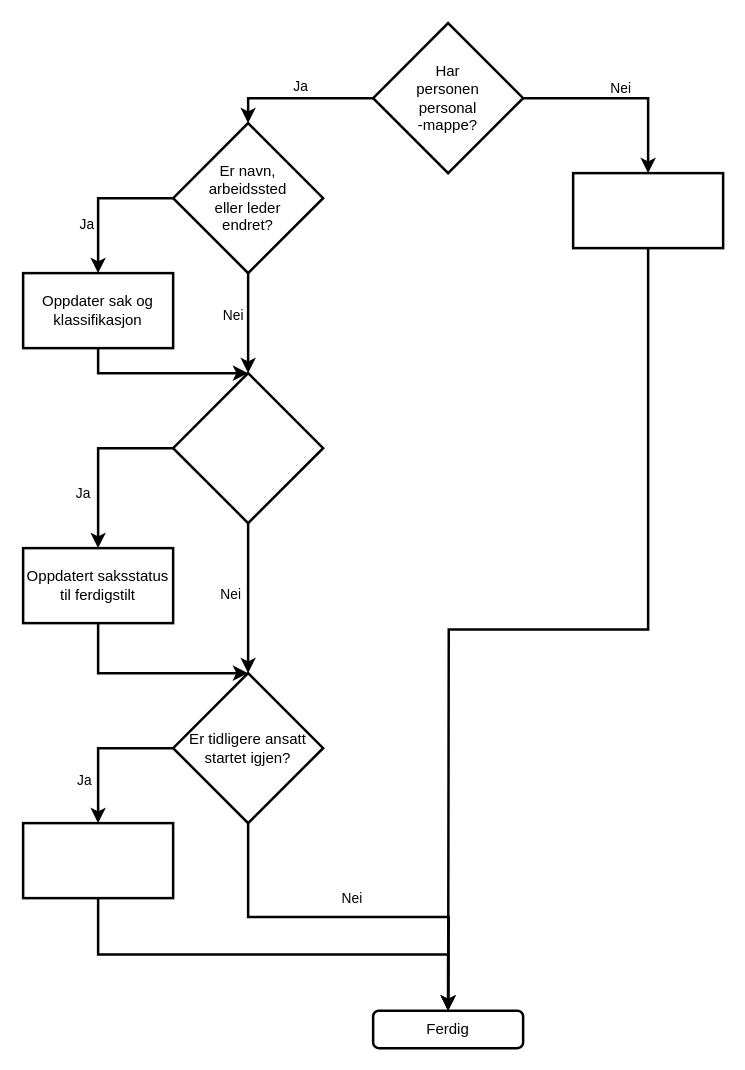
Image size: 745x1070. Some labels were removed from this diagram. The shapes that lost their labels are listed below. From the top down, each one's centre as x and y in pixels, then its label:
(x=647, y=210): Opprett personalmappe
(x=247, y=447): Er personen sluttet?
(x=97, y=860): Oppdatert saksstatus til under behandling
